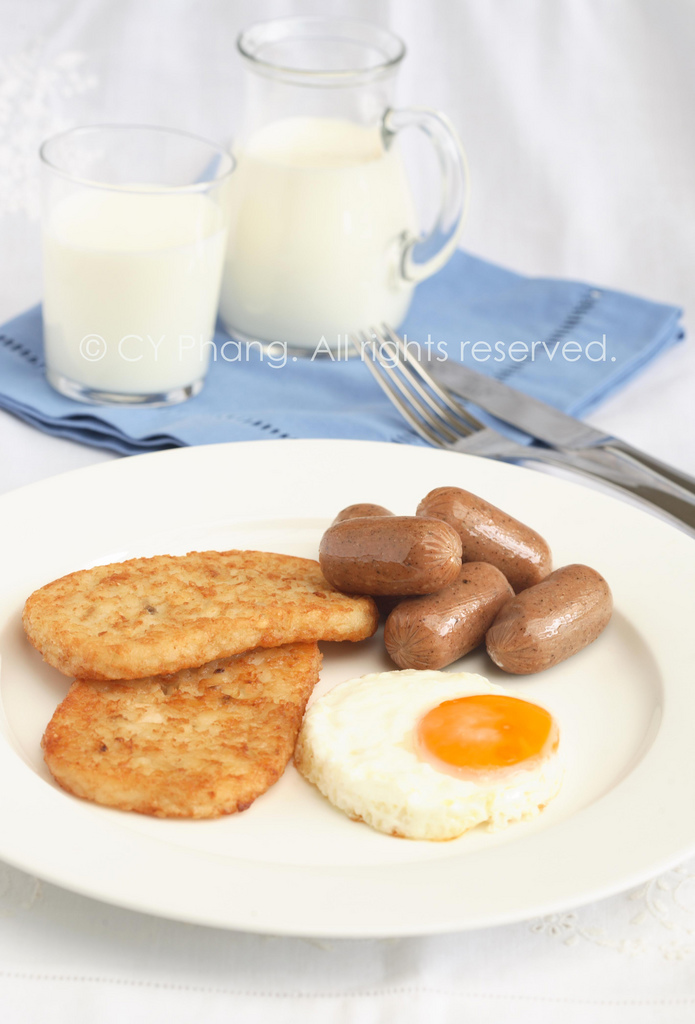fried egg: (301, 657, 578, 838)
glass of milk: (238, 34, 417, 347), (40, 136, 224, 406)
